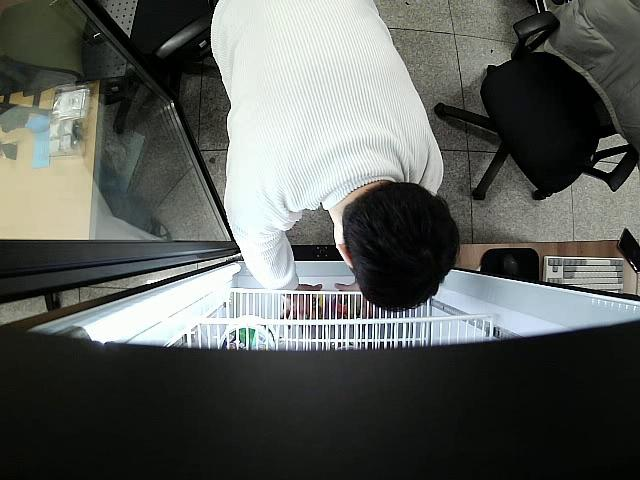00_hand: (281, 284, 323, 327), (335, 279, 365, 319)
